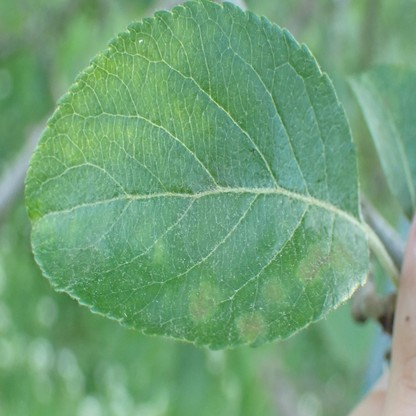scab: (296, 239, 354, 287), (188, 283, 219, 320), (235, 312, 267, 342), (261, 277, 287, 305), (154, 239, 164, 262)
